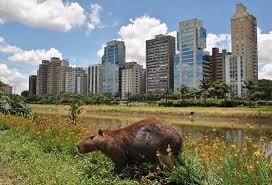capivara: (77, 117, 183, 171)
